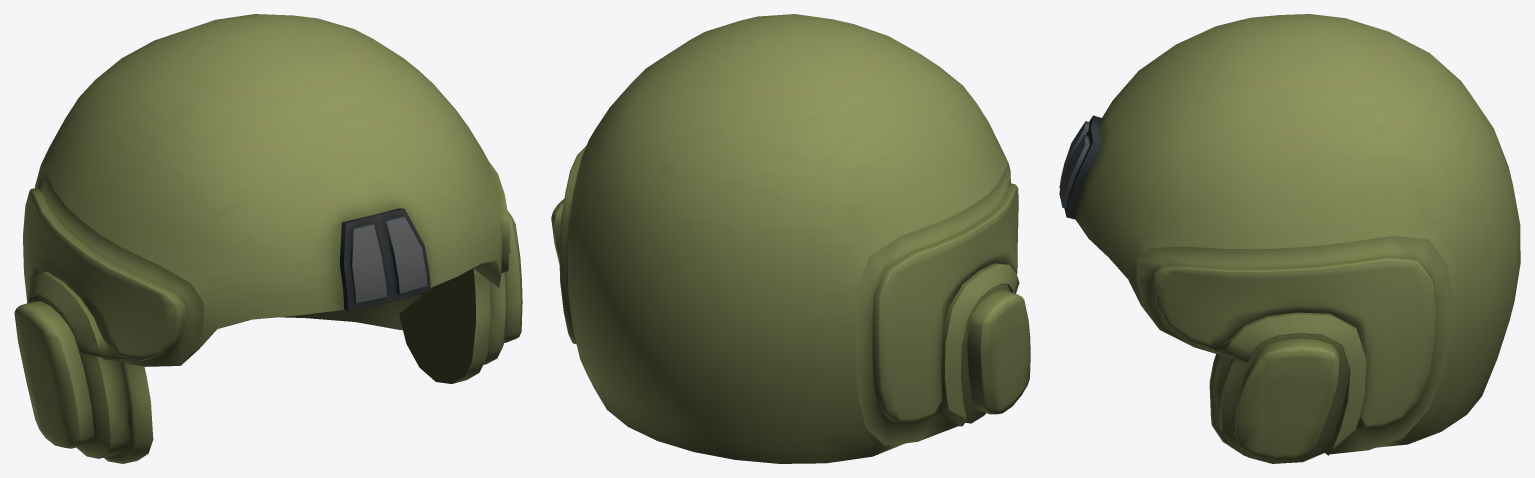
File: Millitary_Hat.glb
3 views of the same model, side by side, from view 1: azimuth 30°, elevation 25°; view 2: azimuth 150°, elevation 25°; view 3: azimuth 270°, elevation 25° (orthographic). The views are drawn at different scales.
Parts seen in each view (by area): view 1: Millitary_Hat; view 2: Millitary_Hat; view 3: Millitary_Hat.
Boxes of the visible parts, box(x1,y1,x2,y2) form: Millitary_Hat: box(14, 14, 522, 463); Millitary_Hat: box(551, 14, 1030, 463); Millitary_Hat: box(1059, 14, 1520, 463).
Size of the model in its own units: 0.6064 by 0.4637 by 0.5515.
1 material, 1 textured.
